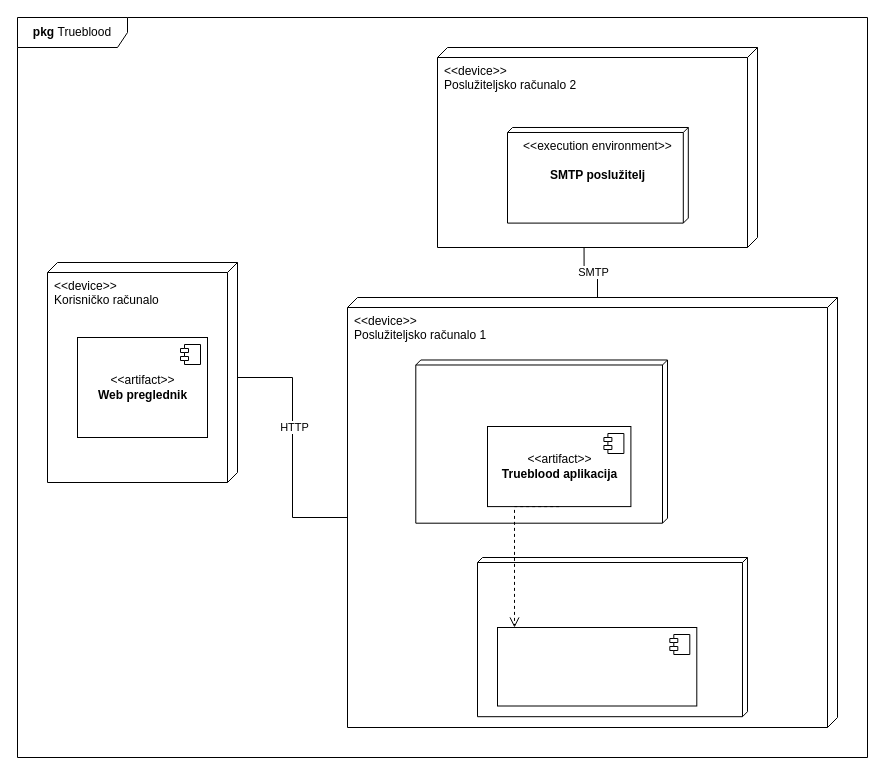
This 885x775 diagram has some shape labels left out. Each missing label, with the box of its shape:
<<execution environment>> Heroku Postgres: (476, 556, 748, 717)
<<execution environment>> Tomcat web poslužitelj: (415, 359, 668, 523)
<<schema>> Baza podataka: (496, 626, 697, 706)
